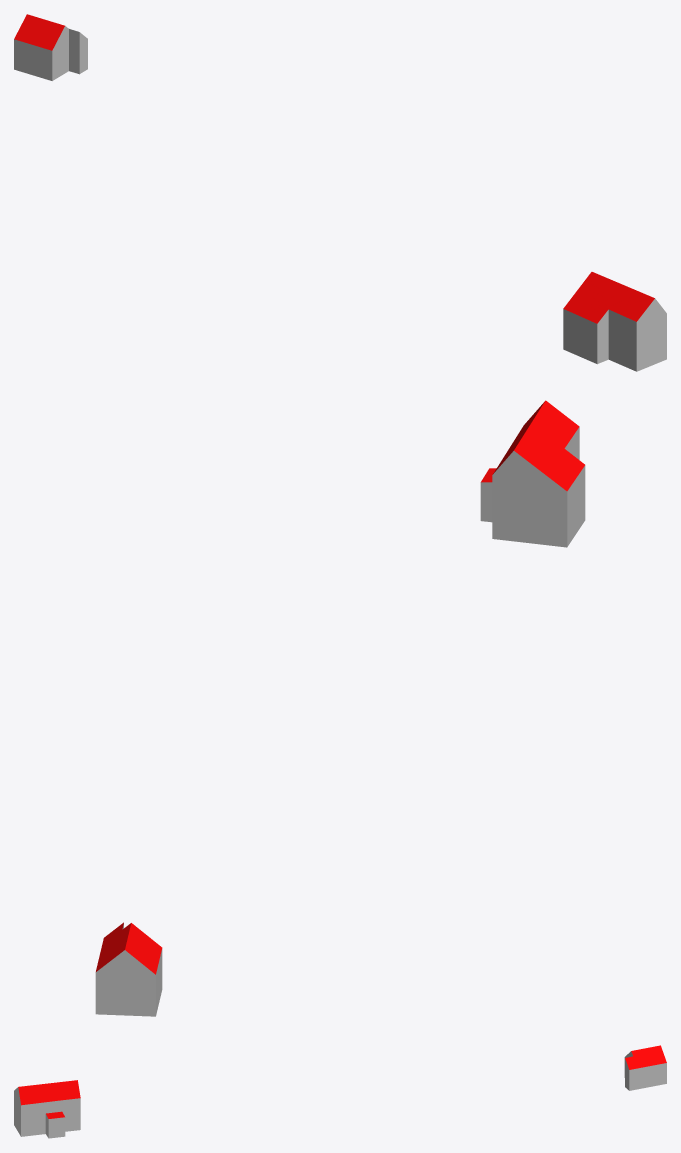
3 views of the same model, one above another, from view 1: azimuth 30°, elevation 25°; view 2: azimuth 150°, elevation 25°; view 3: azimuth 270°, elevation 25° (orthographic). The views are drawn at different scales.
Bounding box in the file's own units: 19.55 × 6.24 × 81.27.
